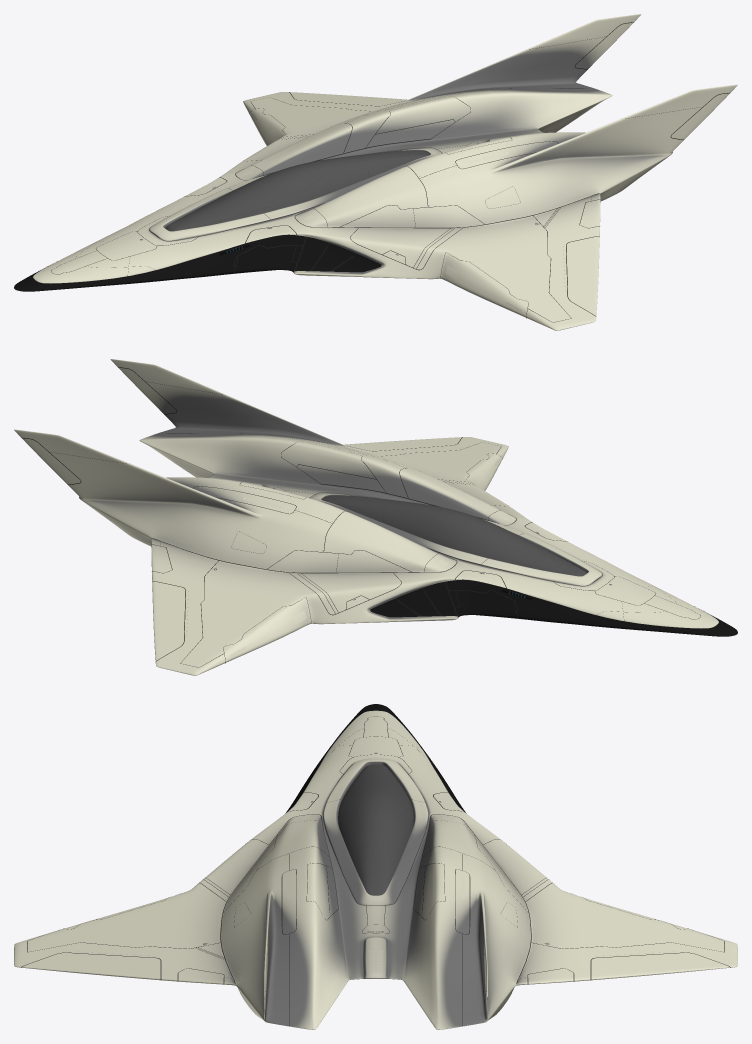
File: spaceship.gltf
3 renders of one model, top to bottom at view 1: azimuth 30°, elevation 25°; view 2: azimuth 150°, elevation 25°; view 3: azimuth 270°, elevation 25°, orthographic. The views are drawn at different scales.
Parts seen in each view (by area): view 1: Jet_32, Canopy_33, Space Jet Atlas_1; view 2: Jet_32, Canopy_33, Space Jet Atlas_1; view 3: Jet_32, Canopy_33, Space Jet Atlas_1.
Part boxes in pixels (x1,y1,x2,y2): Jet_32: (14,14,737,330); Canopy_33: (165,150,430,231); Space Jet Atlas_1: (51,22,730,322); Jet_32: (14,359,737,675); Canopy_33: (321,495,586,576); Space Jet Atlas_1: (21,367,700,667); Jet_32: (14,704,737,1029); Canopy_33: (338,764,413,895); Space Jet Atlas_1: (21,716,730,1025).
Size of the model in its own units: 15.87 by 2.38 by 12.78.
Materials: 5 (2 with a texture image).
